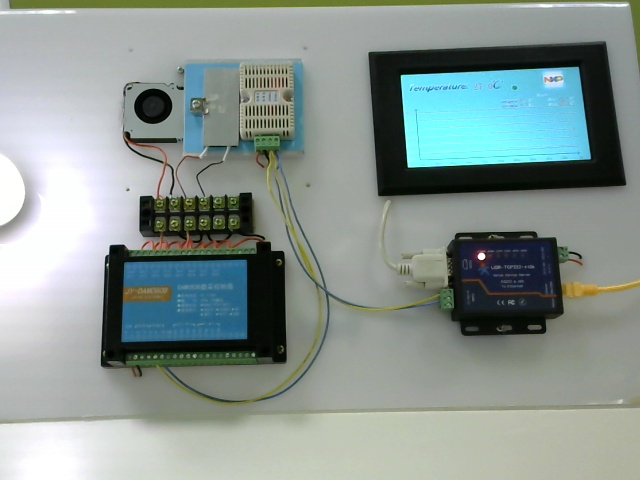fan: (115, 74, 184, 153)
heater: (203, 64, 243, 163)
modbus bridge: (433, 223, 582, 346)
relay: (97, 240, 303, 386)
termperature: (239, 63, 302, 156)
